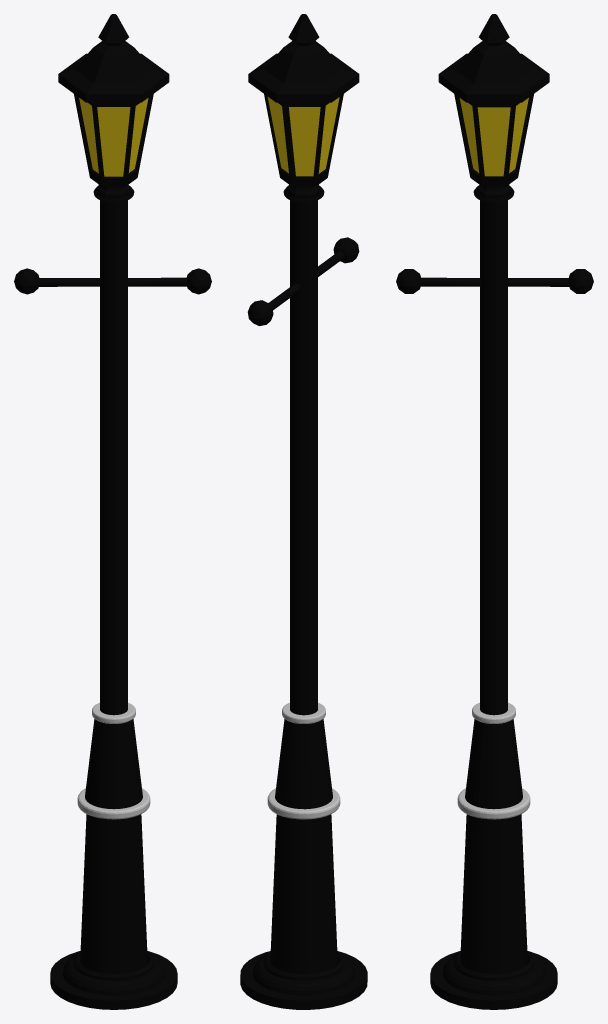
The model's file is Light.fbx.
3 renders of one model, left to right at view 1: azimuth 90°, elevation 25°; view 2: azimuth 150°, elevation 25°; view 3: azimuth 270°, elevation 25°, orthographic.
Visible parts, largest first — view 1: FarmLight.004; view 2: FarmLight.004; view 3: FarmLight.004.
Part boxes in pixels (bbox=[...]): FarmLight.004: bbox=[14, 14, 211, 1009]; FarmLight.004: bbox=[240, 14, 367, 1009]; FarmLight.004: bbox=[396, 14, 593, 1009].
Size of the model in its own units: 200 by 1676 by 311.
